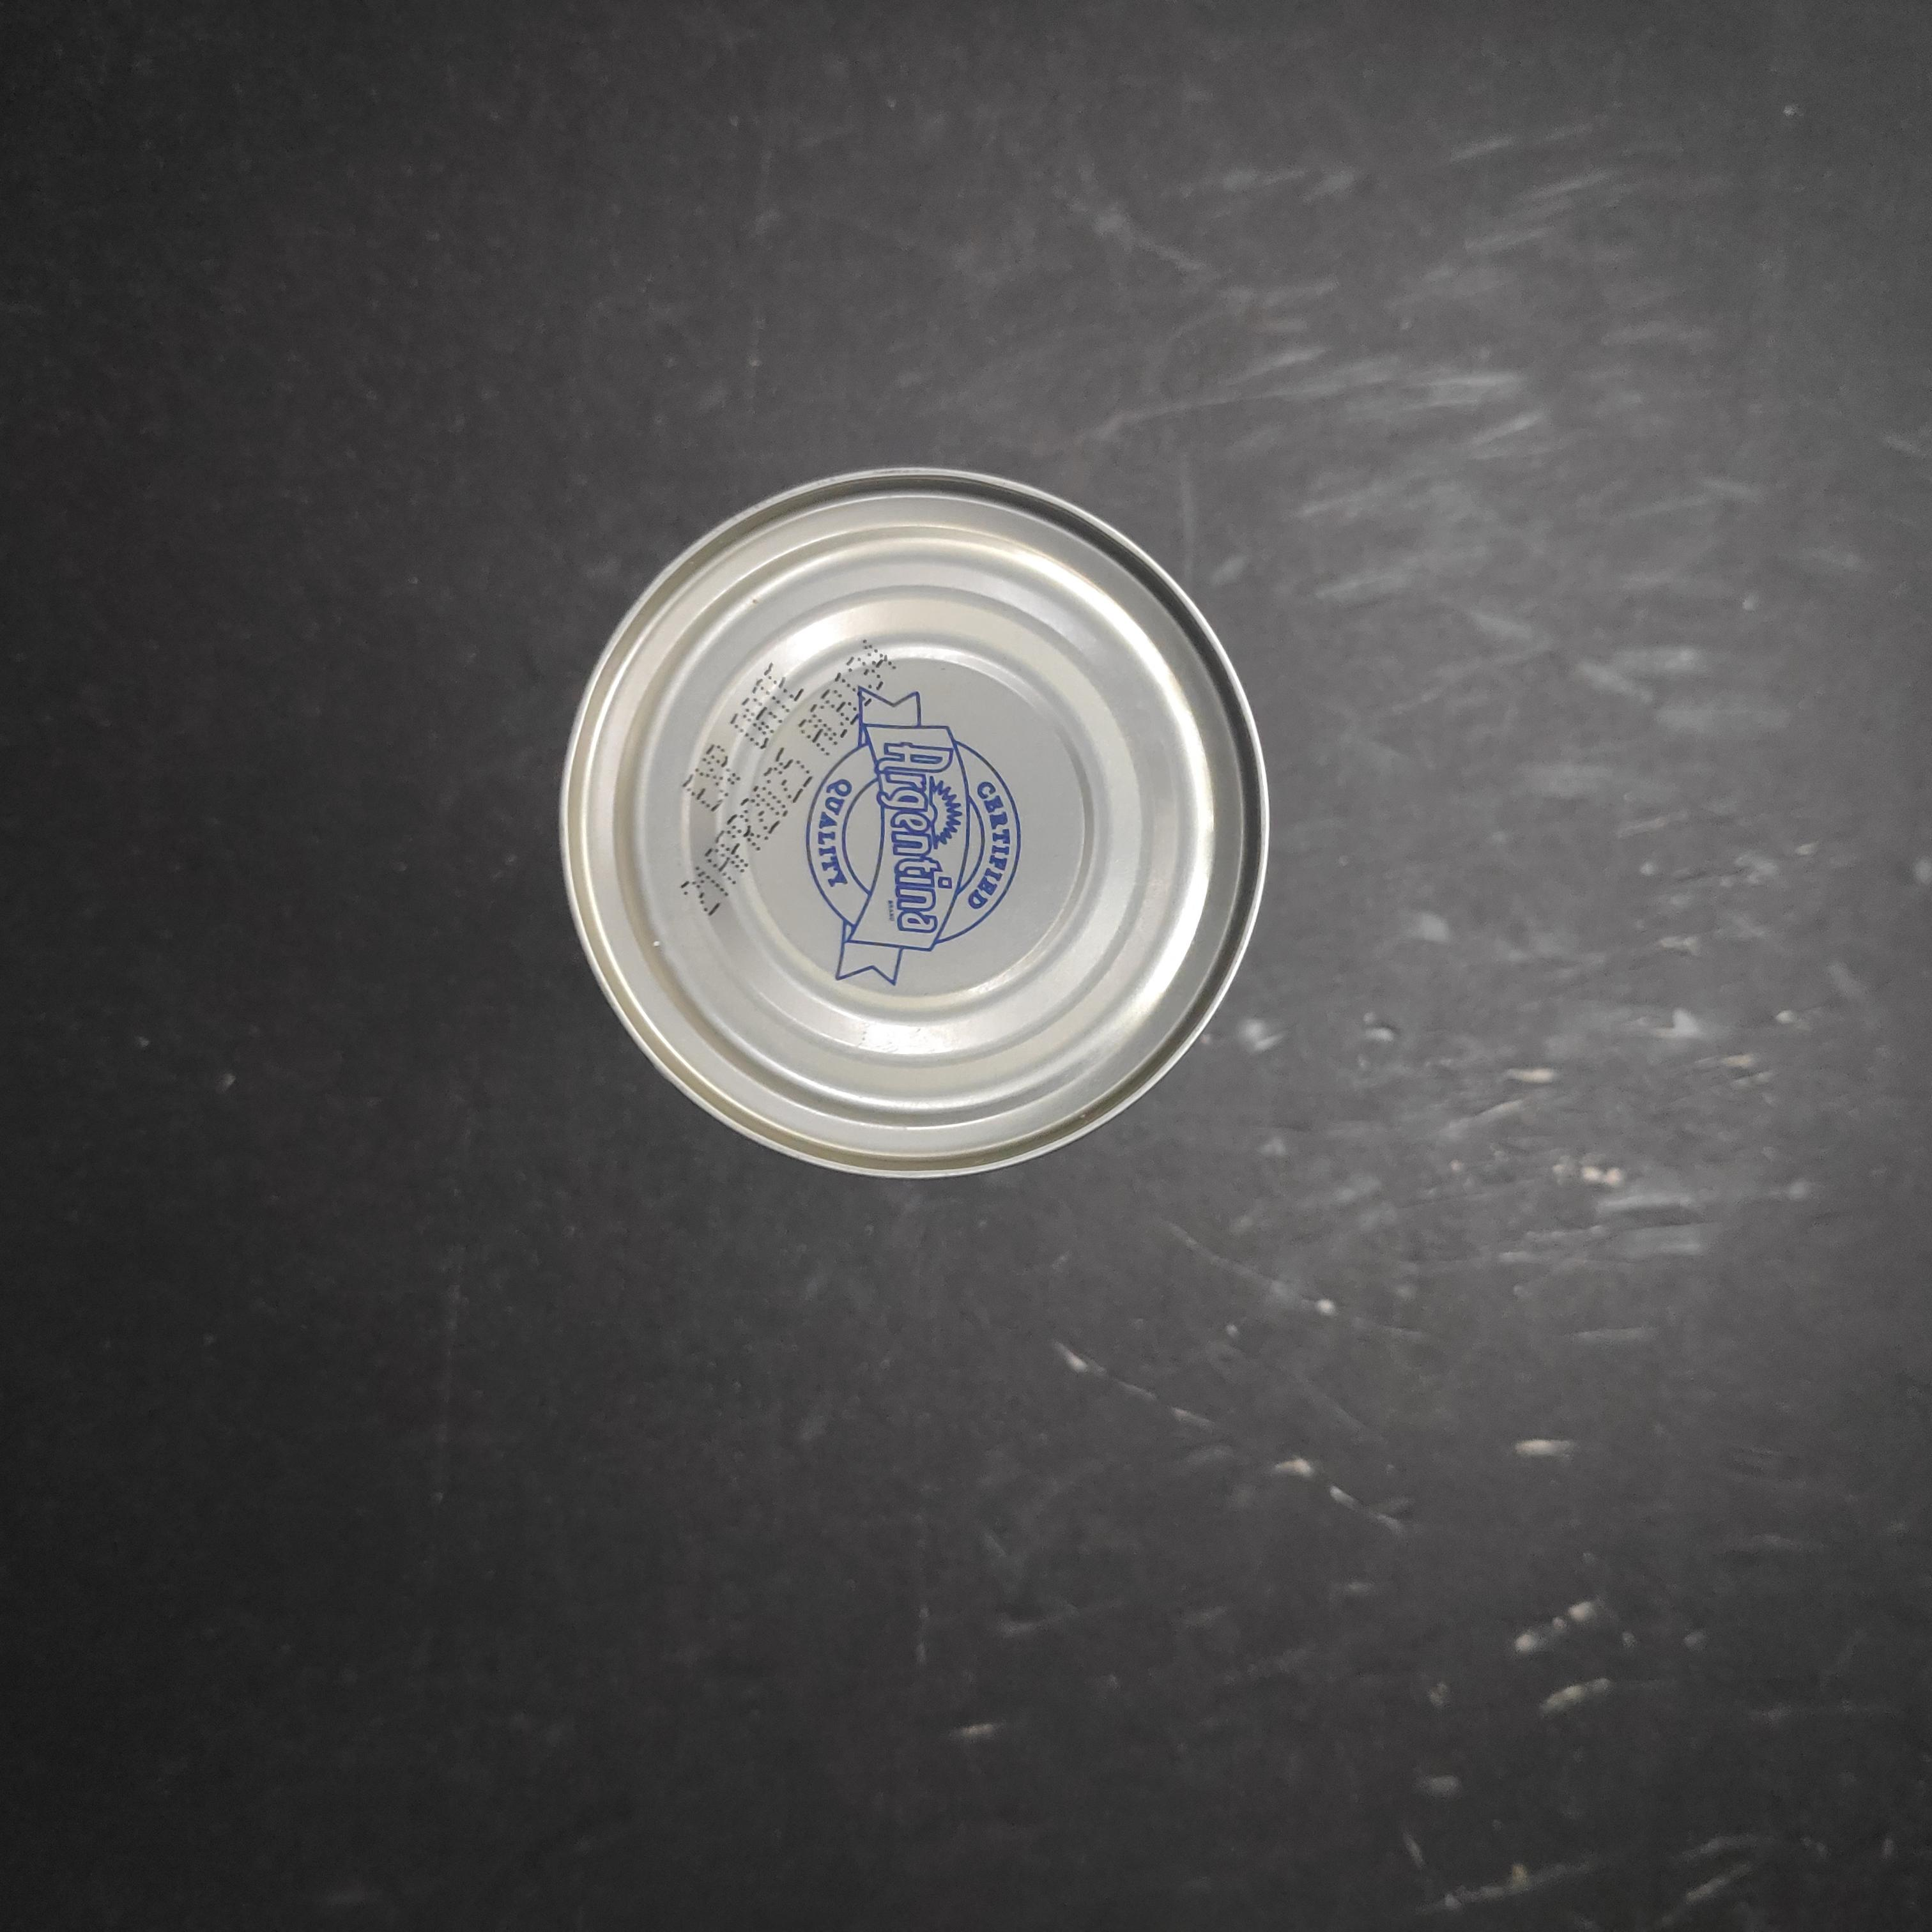No defect: (556, 462, 1272, 1184)
